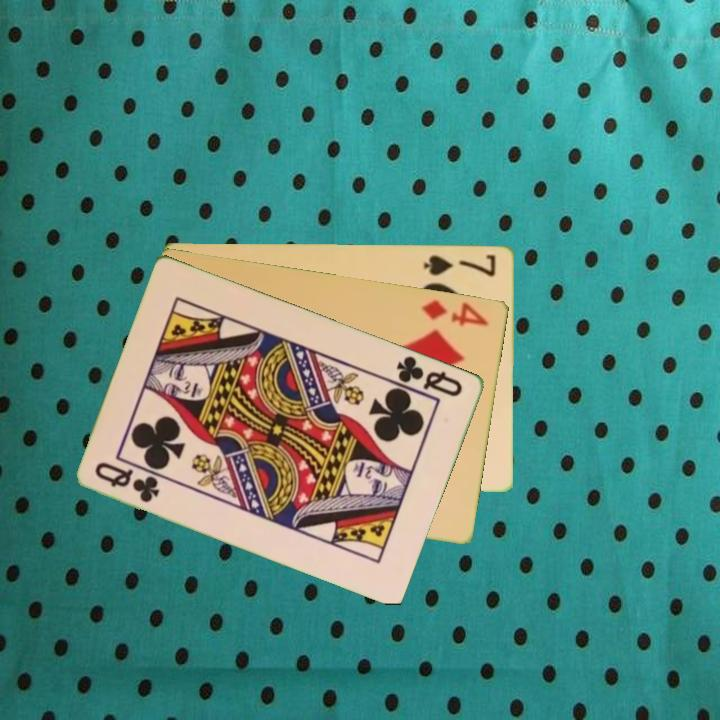4d: (419, 295, 492, 329)
7s: (420, 250, 499, 279)
Qc: (393, 351, 466, 400), (92, 458, 164, 506)
